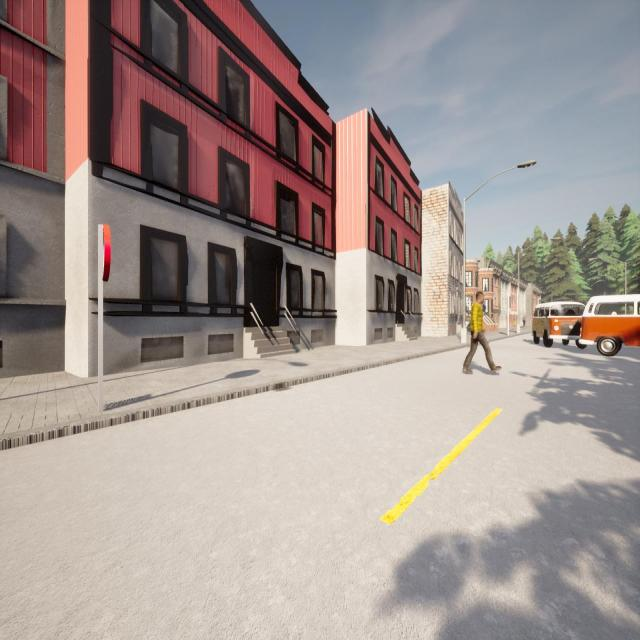Pedestrian: (463, 290, 501, 372), (522, 314, 526, 329), (513, 316, 516, 328)
Traffic_Signs: (98, 224, 110, 279)
Vehicle: (579, 296, 640, 356), (532, 303, 586, 347)
traffic_light: (507, 296, 511, 308)
